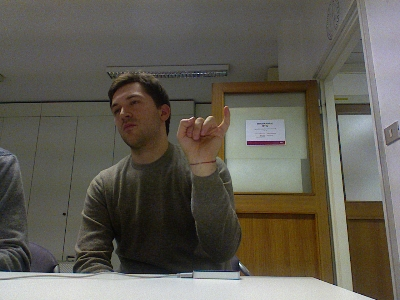小指: (175, 103, 232, 162)
